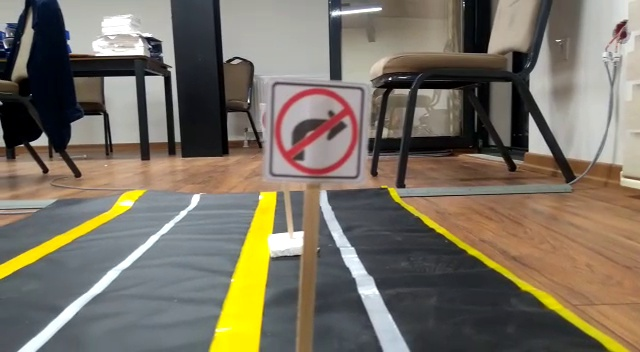saga_donulmez: (270, 81, 365, 178)
